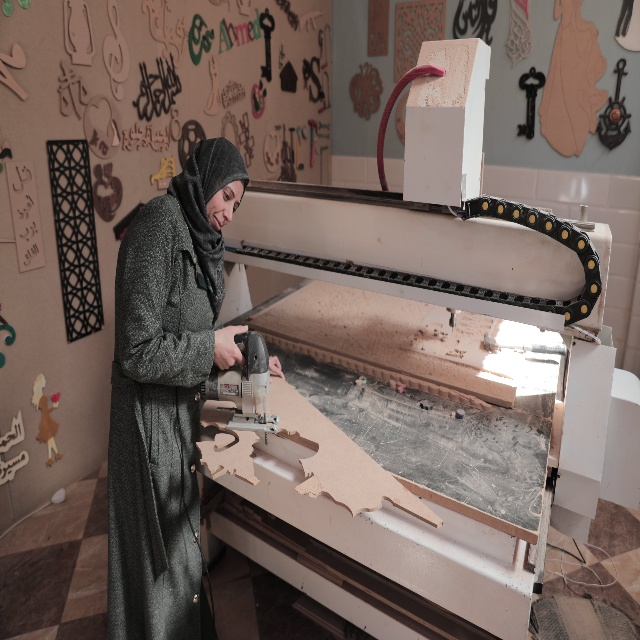Sin_guantes: (213, 324, 248, 370), (267, 353, 286, 384)
